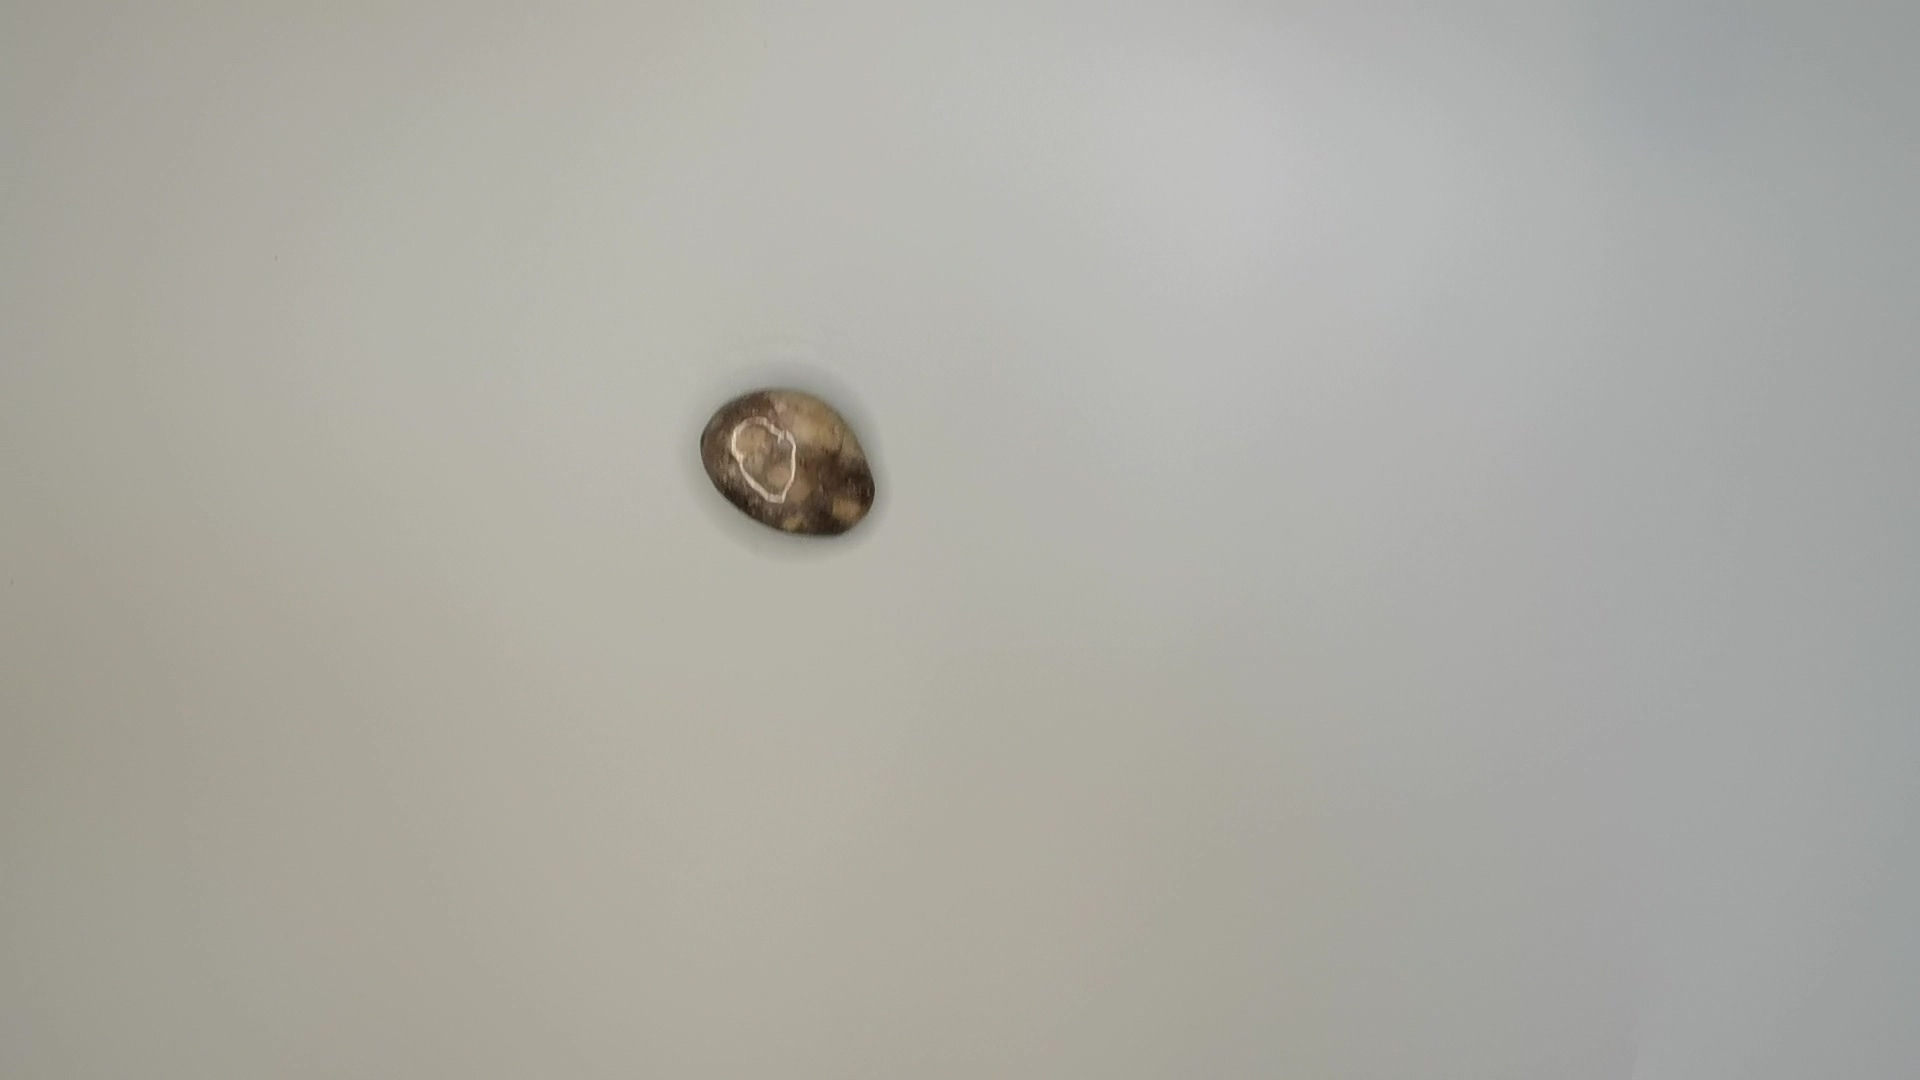ceramic: (686, 380, 893, 550)
